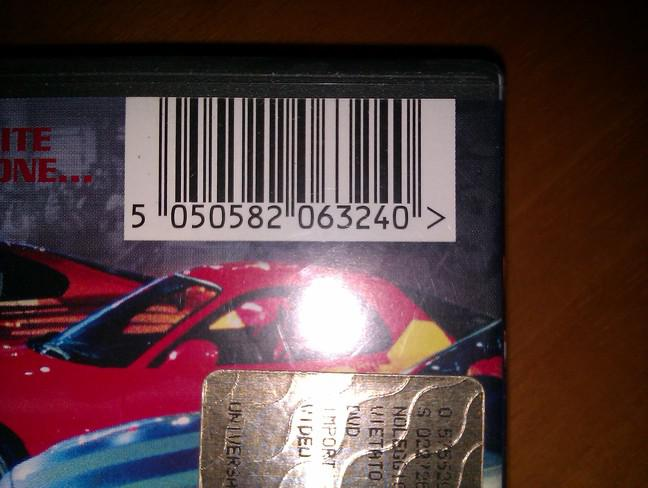Barkod: (124, 95, 453, 239)
